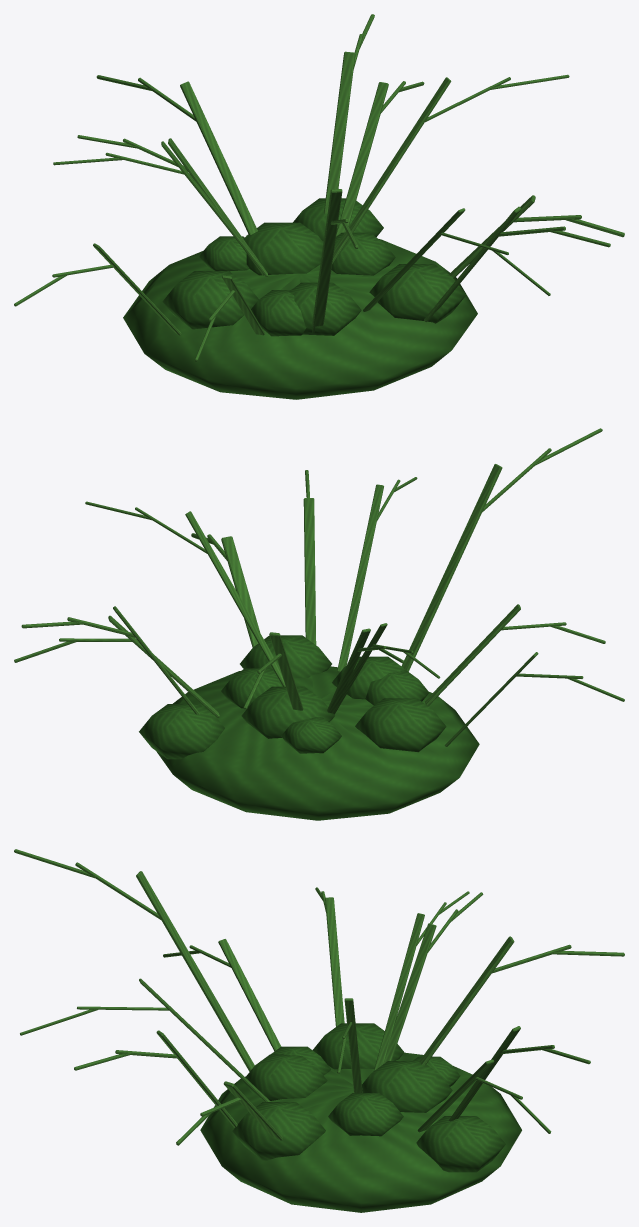
Rendered from grass_patch.glb.
The picture shows the model from 3 angles, top to bottom: view 1: azimuth 30°, elevation 25°; view 2: azimuth 150°, elevation 25°; view 3: azimuth 270°, elevation 25°; orthographic projection. The views are drawn at different scales.
Visible parts, largest first — view 1: grass_patch_mound, grass_patch_clump7, grass_patch_clump4, grass_patch_clump2, grass_patch_clump6, grass_patch_clump0, grass_patch_clump5, grass_patch_blade11_s0, grass_patch_blade0_s0, grass_patch_blade5_s0, grass_patch_blade10_s0, grass_patch_blade9_s0 (+9 smaller); view 2: grass_patch_mound, grass_patch_clump4, grass_patch_clump1, grass_patch_clump2, grass_patch_blade5_s0, grass_patch_clump7, grass_patch_blade6_s0, grass_patch_blade7_s0, grass_patch_clump3, grass_patch_clump5, grass_patch_blade9_s0, grass_patch_clump0 (+8 smaller); view 3: grass_patch_mound, grass_patch_clump1, grass_patch_clump7, grass_patch_clump2, grass_patch_clump6, grass_patch_clump0, grass_patch_clump4, grass_patch_blade5_s0, grass_patch_blade1_s0, grass_patch_blade2_s0, grass_patch_blade3_s0, grass_patch_blade0_s0 (+9 smaller).
Boxes of the visible parts, left/top/right/bottom form: grass_patch_mound: left=123, top=239, right=477, bottom=399; grass_patch_clump7: left=369, top=264, right=466, bottom=323; grass_patch_clump4: left=162, top=271, right=258, bottom=329; grass_patch_clump2: left=243, top=222, right=323, bottom=275; grass_patch_clump6: left=289, top=282, right=361, bottom=335; grass_patch_clump0: left=331, top=232, right=395, bottom=275; grass_patch_clump5: left=251, top=290, right=306, bottom=336; grass_patch_blade11_s0: left=324, top=51, right=355, bottom=213; grass_patch_blade0_s0: left=180, top=81, right=257, bottom=234; grass_patch_blade5_s0: left=312, top=189, right=342, bottom=332; grass_patch_blade10_s0: left=336, top=82, right=388, bottom=236; grass_patch_blade9_s0: left=332, top=77, right=451, bottom=263; grass_patch_mound: left=156, top=666, right=479, bottom=820; grass_patch_clump4: left=355, top=698, right=446, bottom=752; grass_patch_clump1: left=139, top=704, right=224, bottom=759; grass_patch_clump2: left=241, top=686, right=334, bottom=738; grass_patch_blade5_s0: left=401, top=464, right=502, bottom=671; grass_patch_clump7: left=240, top=635, right=331, bottom=678; grass_patch_blade6_s0: left=337, top=484, right=383, bottom=672; grass_patch_blade7_s0: left=303, top=498, right=316, bottom=644; grass_patch_clump3: left=281, top=717, right=341, bottom=753; grass_patch_clump5: left=365, top=670, right=429, bottom=705; grass_patch_blade9_s0: left=185, top=511, right=285, bottom=686; grass_patch_clump0: left=221, top=668, right=282, bottom=708; grass_patch_mound: left=200, top=1052, right=521, bottom=1212; grass_patch_clump1: left=416, top=1116, right=505, bottom=1172; grass_patch_clump7: left=232, top=1102, right=325, bottom=1160; grass_patch_clump2: left=362, top=1061, right=452, bottom=1112; grass_patch_clump6: left=242, top=1054, right=327, bottom=1100; grass_patch_clump0: left=328, top=1093, right=403, bottom=1136; grass_patch_clump4: left=313, top=1023, right=404, bottom=1069; grass_patch_blade5_s0: left=136, top=871, right=254, bottom=1071; grass_patch_blade1_s0: left=384, top=923, right=436, bottom=1063; grass_patch_blade2_s0: left=374, top=913, right=424, bottom=1070; grass_patch_blade3_s0: left=325, top=897, right=344, bottom=1026; grass_patch_blade0_s0: left=419, top=936, right=514, bottom=1065.
Bounding box in the file's own units: 1.08 × 0.5033 × 1.06.
2 materials, 2 textured.
